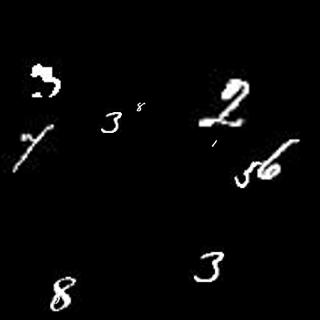eight: (47, 277, 78, 314), (133, 99, 146, 112)
five: (233, 158, 255, 189)
one: (209, 138, 222, 149)
seven: (14, 124, 53, 170)
six: (259, 134, 303, 180)
three: (27, 64, 68, 100), (194, 249, 227, 286), (98, 106, 126, 137)
two: (198, 79, 252, 128)
